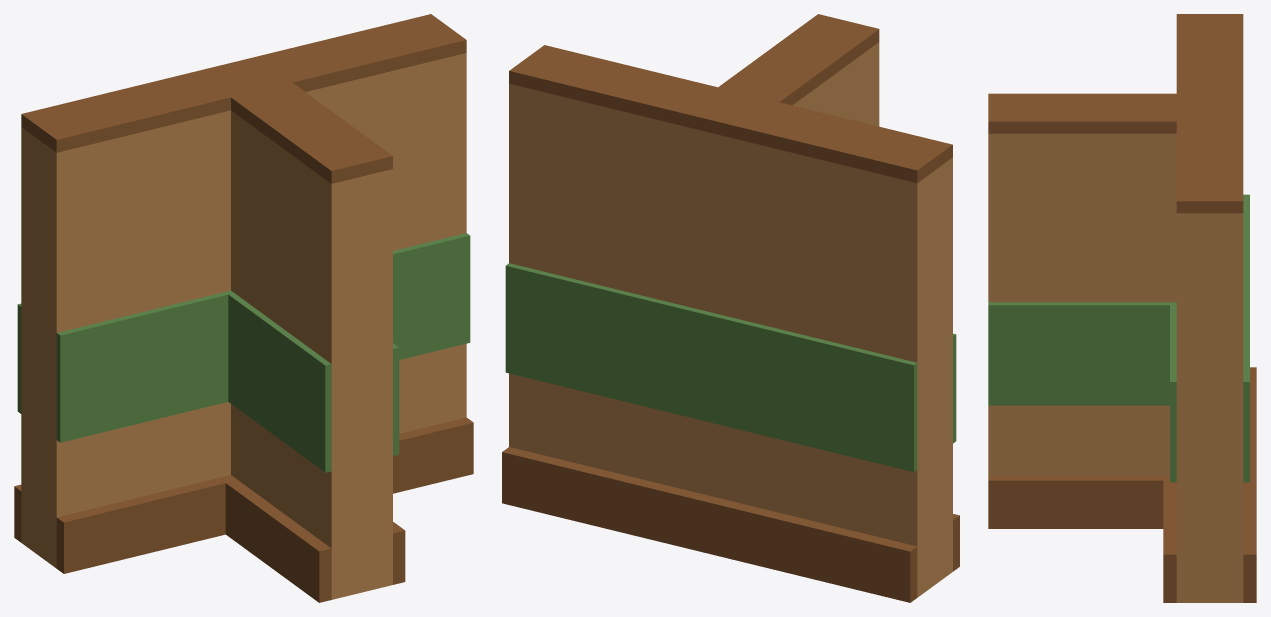
The model's file is partition-full-tee.glb.
3 renders of one model, left to right at view 1: azimuth 30°, elevation 25°; view 2: azimuth 150°, elevation 25°; view 3: azimuth 270°, elevation 25°, orthographic. The views are drawn at different scales.
Parts seen in each view (by area): view 1: partition-full-tee; view 2: partition-full-tee; view 3: partition-full-tee.
Boxes of the visible parts, x1=… form: partition-full-tee: x1=14, y1=14, x2=473, y2=602; partition-full-tee: x1=502, y1=14, x2=959, y2=602; partition-full-tee: x1=988, y1=14, x2=1256, y2=602.
Size of the model in its own units: 1 by 1 by 0.605.
1 material, 1 textured.
